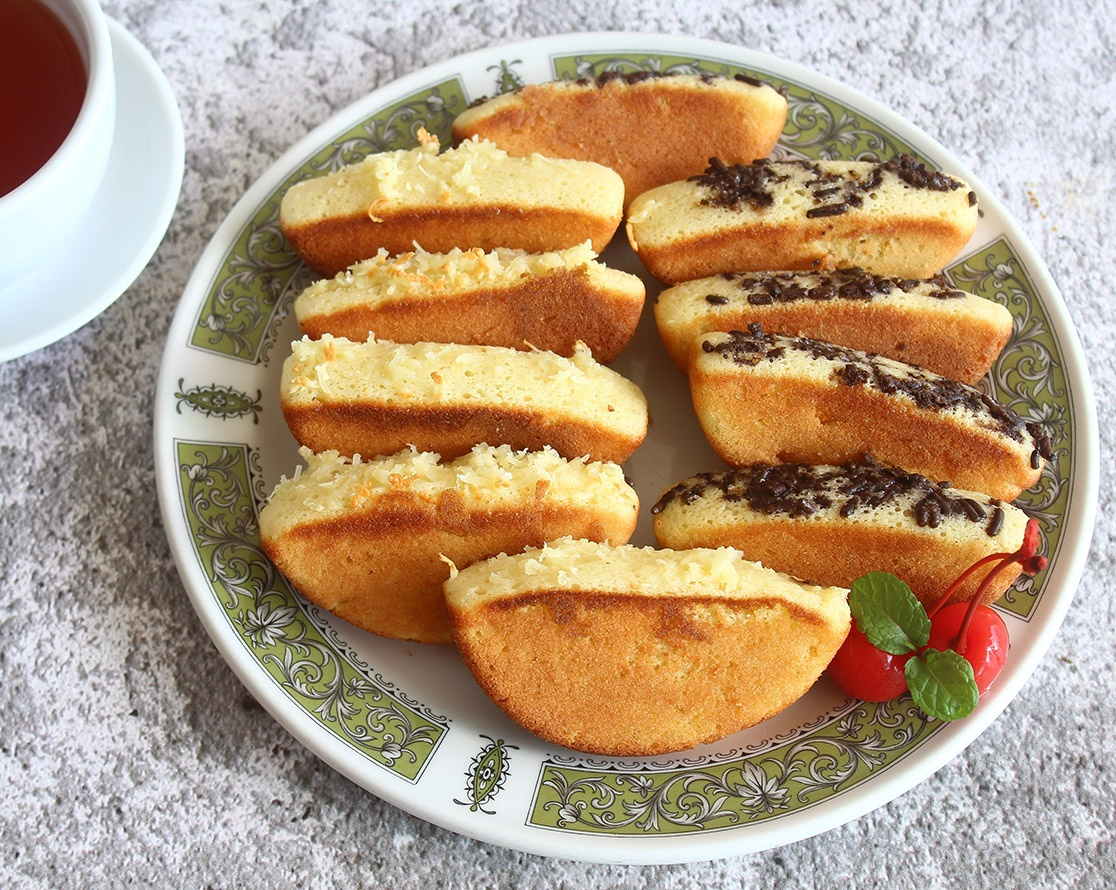pukis: (434, 531, 837, 743)
